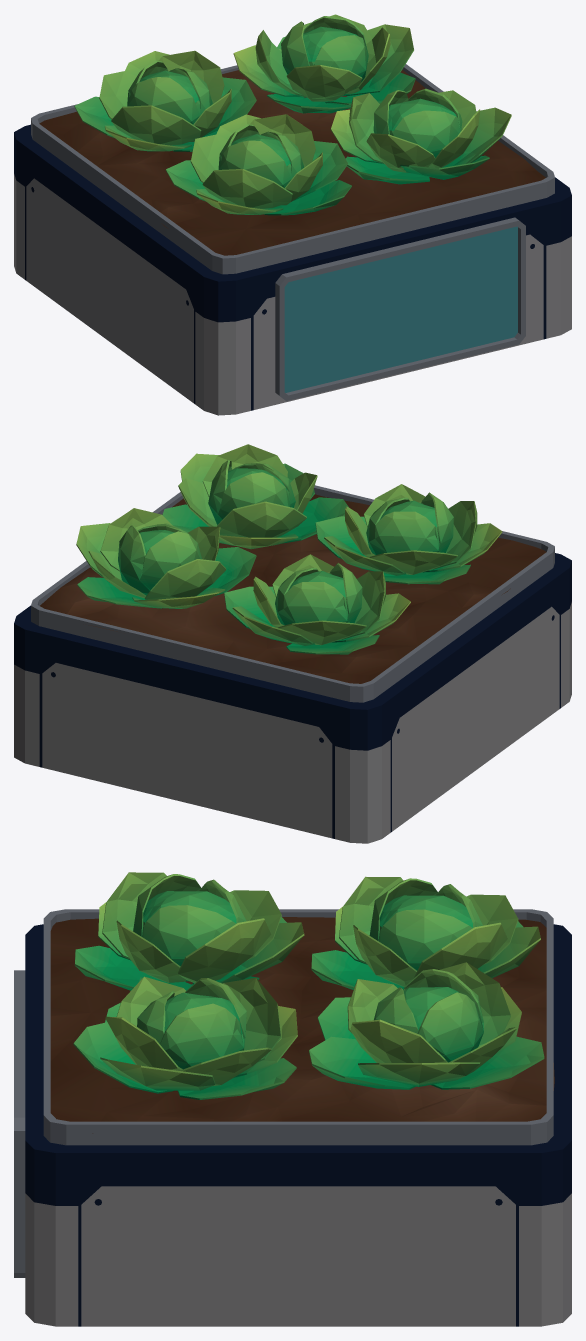
Rendered from SM_Props_Agro_04.fbx.
The picture shows the model from 3 angles, top to bottom: view 1: azimuth 30°, elevation 25°; view 2: azimuth 150°, elevation 25°; view 3: azimuth 270°, elevation 25°; orthographic projection. The views are drawn at different scales.
Visible parts, largest first — view 1: SM_Props_Agro_04_LOD0; view 2: SM_Props_Agro_04_LOD0; view 3: SM_Props_Agro_04_LOD0.
Part boxes in pixels (<box>): SM_Props_Agro_04_LOD0: <box>14,14,571,415</box>; SM_Props_Agro_04_LOD0: <box>14,444,571,843</box>; SM_Props_Agro_04_LOD0: <box>14,872,571,1326</box>.
Size of the model in its own units: 100 by 56.82 by 102.
